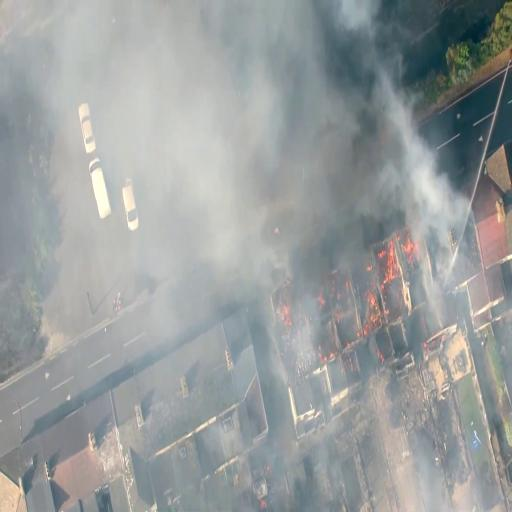fire: (378, 234, 410, 272)
smoke: (145, 39, 258, 224)
